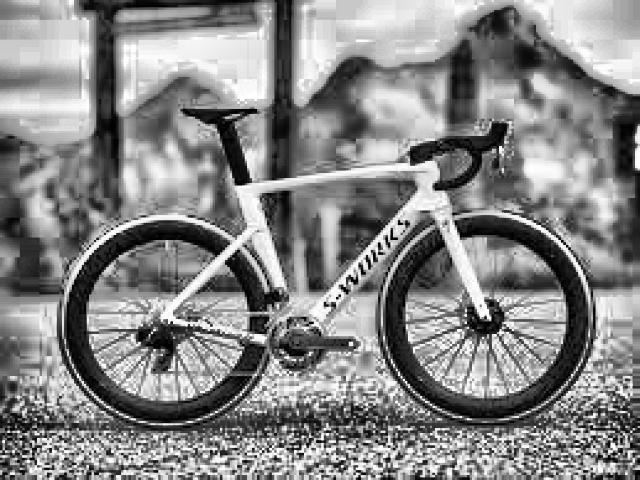cranks_set: (263, 308, 361, 374)
rear_derailleur: (134, 323, 178, 375)
saddle: (178, 102, 260, 128)
sti_shifter: (491, 119, 512, 177)
wheel: (56, 213, 278, 435), (377, 209, 598, 426)
